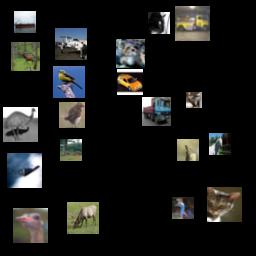airplane: (7, 153, 42, 188), (55, 28, 87, 60)
automobile: (117, 69, 143, 95)
bird: (13, 208, 48, 243), (3, 107, 38, 142), (53, 66, 85, 98), (59, 102, 85, 128), (172, 197, 194, 219), (177, 139, 199, 161)
cat: (207, 187, 242, 222), (148, 12, 170, 34), (186, 92, 202, 108)
deer: (67, 202, 99, 234), (11, 42, 40, 71), (60, 139, 82, 161)
dog: (116, 39, 145, 68)
ship: (14, 11, 36, 33)
truck: (175, 6, 210, 41), (142, 97, 171, 126)
